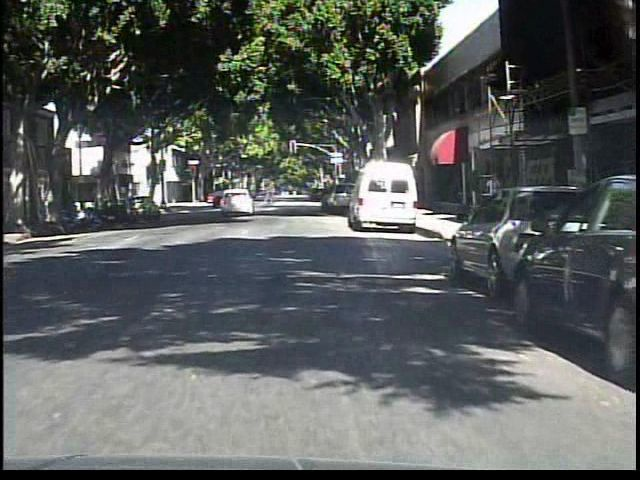person: (479, 165, 505, 225), (260, 180, 281, 213)
